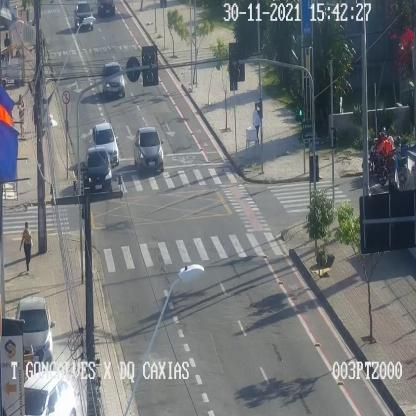car: (15, 298, 55, 364), (24, 370, 79, 415), (90, 122, 120, 170), (84, 147, 112, 196), (134, 126, 163, 172), (101, 61, 126, 99), (74, 2, 94, 32), (97, 0, 115, 16)
motorbike: (367, 132, 401, 177), (379, 136, 408, 184)
person: (19, 221, 34, 273), (17, 96, 25, 138), (252, 102, 260, 142)
